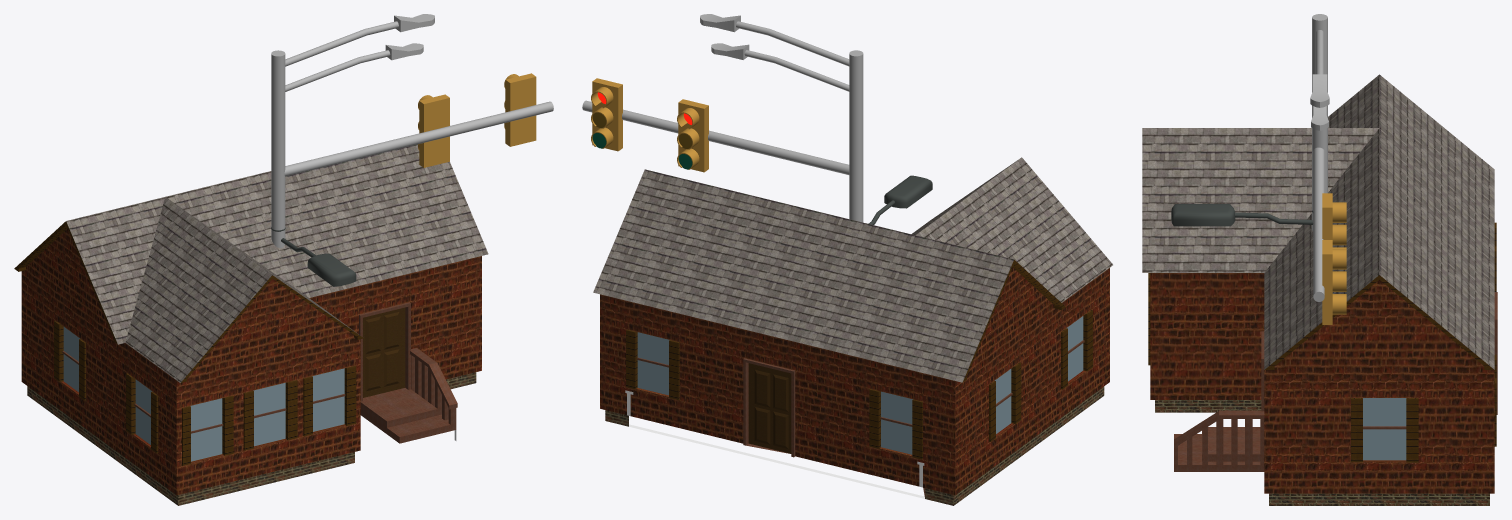
File: streetscape.glb
The picture shows the model from 3 angles, left to right: view 1: azimuth 30°, elevation 25°; view 2: azimuth 150°, elevation 25°; view 3: azimuth 270°, elevation 25°; orthographic projection. The views are drawn at different scales.
Visible parts, largest first — view 1: BrickRanch, Signal, PathLamp, Streetlamp; view 2: BrickRanch, Signal, Streetlamp, PathLamp; view 3: BrickRanch, Signal, PathLamp.
Part boxes in pixels (x1,y1,x2,y2): BrickRanch: [14, 144, 488, 505]; Signal: [271, 14, 553, 248]; PathLamp: [271, 227, 356, 286]; Streetlamp: [285, 43, 423, 91]; BrickRanch: [593, 157, 1112, 505]; Signal: [582, 14, 863, 222]; Streetlamp: [711, 43, 849, 91]; PathLamp: [868, 175, 932, 224]; BrickRanch: [1142, 74, 1497, 505]; Signal: [1310, 14, 1346, 324]; PathLamp: [1171, 204, 1313, 226].
Size of the model in its own units: 10.65 by 8.3 by 6.45.
Materials: 26 (10 with a texture image).
